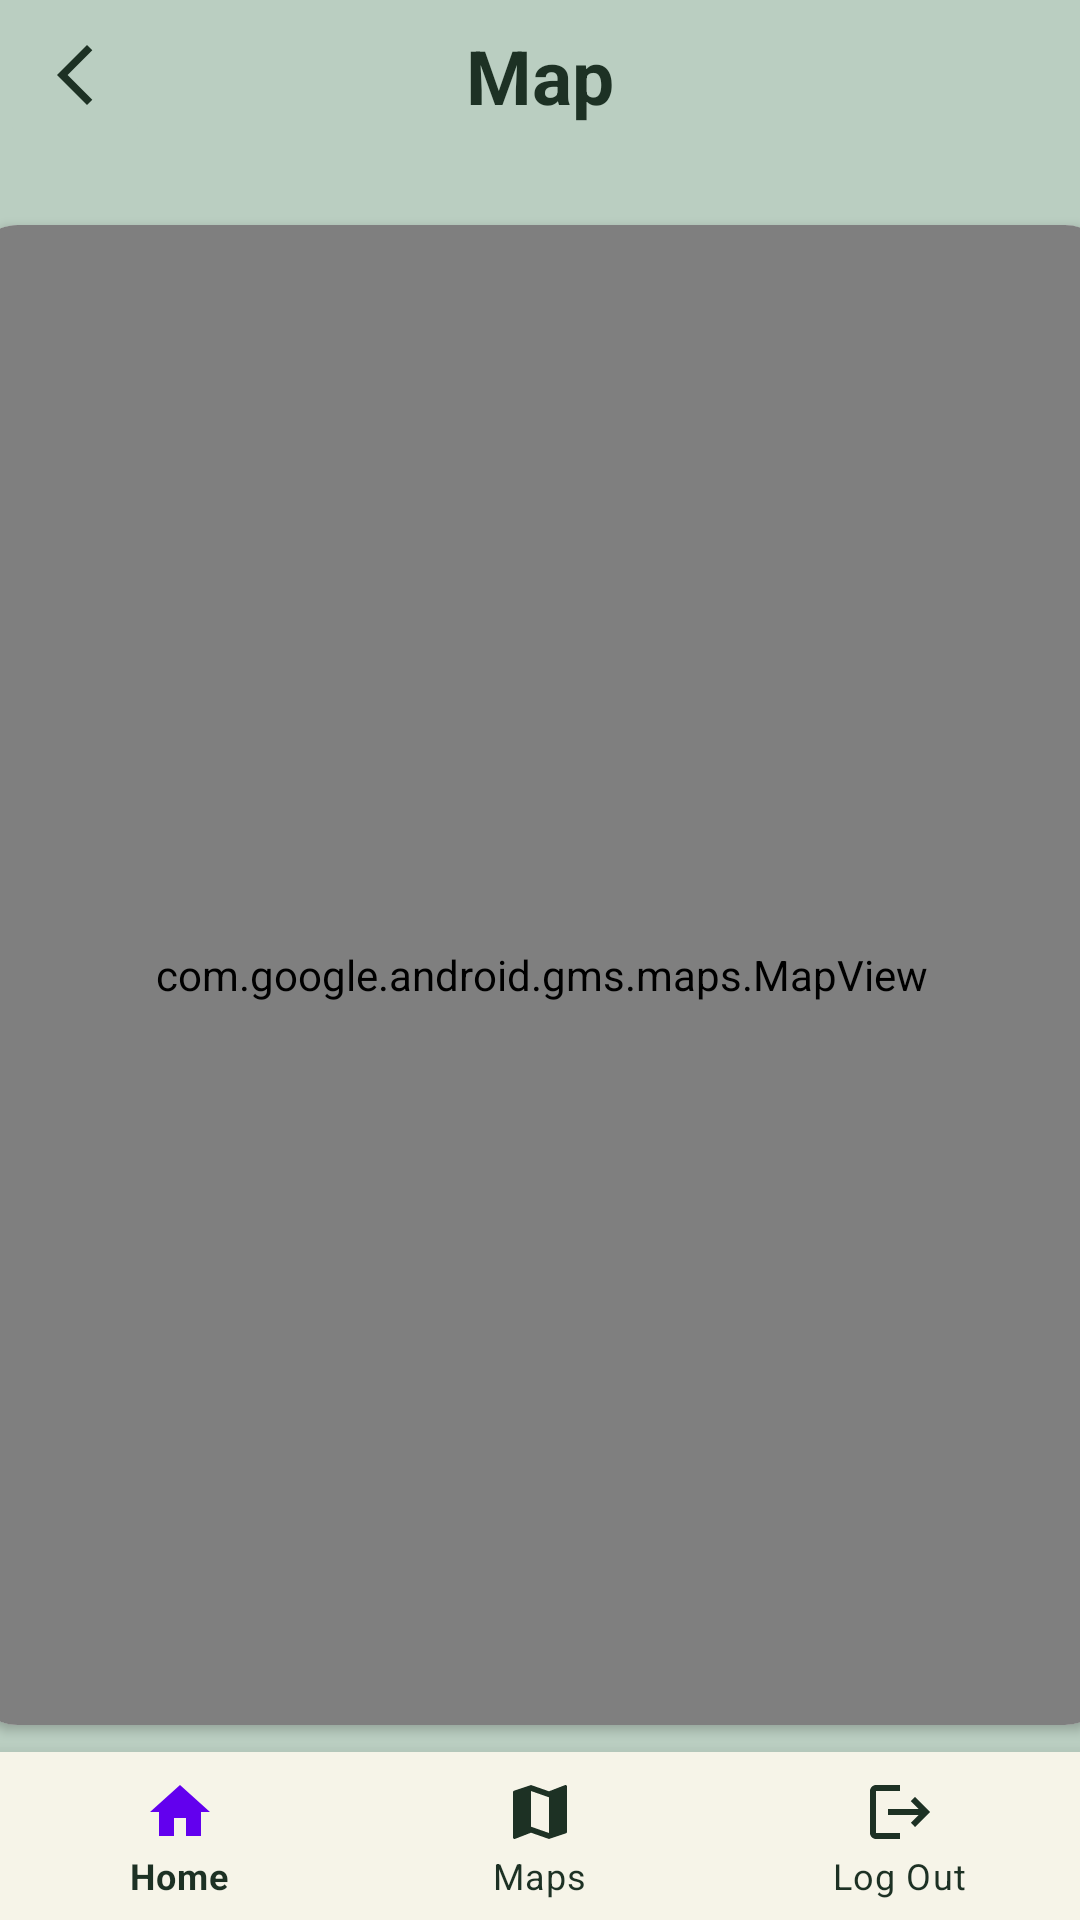

Point at icon controls on the screen. Image size 1080*1920, points as [x,y].
return: [74,75]
